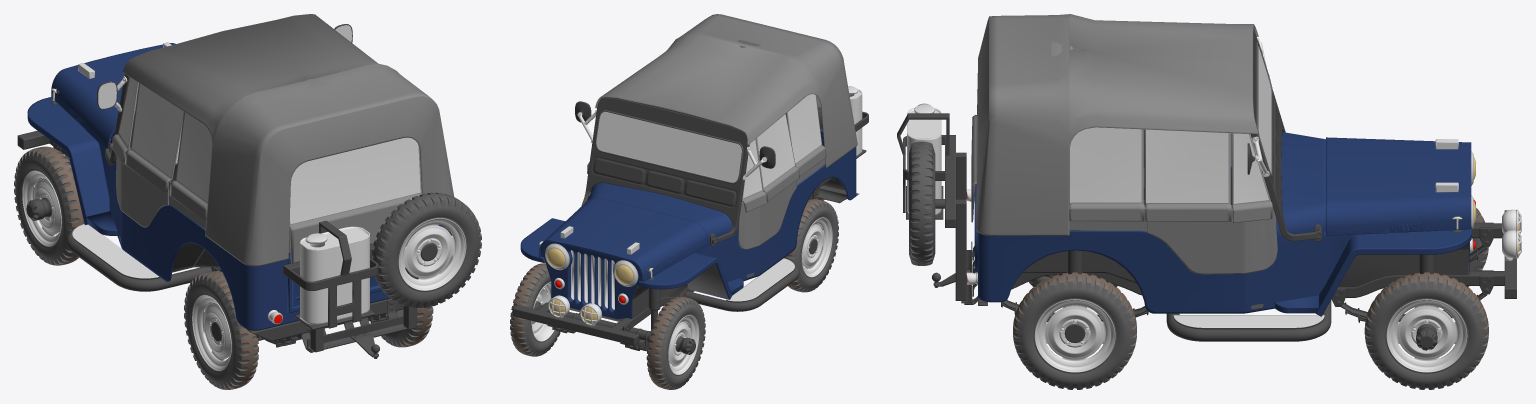
File: Willys4Export.fbx
The picture shows the model from 3 angles, left to right: view 1: azimuth 30°, elevation 25°; view 2: azimuth 150°, elevation 25°; view 3: azimuth 270°, elevation 25°; orthographic projection. The views are drawn at different scales.
Visible parts, largest first — view 1: Capota, Carroceria, Cube.001, Chassi, Circle.002, Circle.003, Cube, Capô, Plane, Circle.001, Porta traseira; view 2: Capota, Carroceria, Plane, Capô, Chassi, Circle.003, Circle.002, Circle.000, Cube; view 3: Capota, Carroceria, Capô, Circle.001, Circle.000, Chassi, Cube.001, Plane, Cube.
Boxes of the visible parts, box(x1,y1,x2,y2) form: Capota: box(112, 14, 454, 266); Carroceria: box(27, 88, 443, 330); Cube.001: box(283, 192, 481, 352); Chassi: box(17, 130, 407, 358); Circle.002: box(184, 271, 258, 389); Circle.003: box(14, 146, 84, 265); Cube: box(300, 226, 369, 324); Capô: box(51, 42, 175, 148); Plane: box(97, 24, 352, 165); Circle.001: box(381, 306, 433, 347); Porta traseira: box(288, 253, 424, 313); Capota: box(587, 14, 857, 249); Carroceria: box(520, 147, 856, 321); Plane: box(575, 98, 775, 243); Capô: box(539, 198, 708, 282); Chassi: box(512, 185, 858, 354); Circle.003: box(646, 296, 705, 389); Circle.002: box(784, 199, 838, 292); Circle.000: box(510, 263, 560, 356); Cube: box(848, 86, 862, 156); Capota: box(971, 14, 1277, 274); Carroceria: box(966, 129, 1475, 329); Capô: box(1326, 137, 1471, 235); Circle.001: box(1013, 272, 1136, 389); Circle.000: box(1364, 272, 1488, 389); Chassi: box(932, 209, 1521, 350); Cube.001: box(897, 113, 966, 300); Plane: box(1247, 30, 1321, 241); Cube: box(907, 103, 941, 215).
Bounding box in the file's own units: 183 × 190 × 362.
